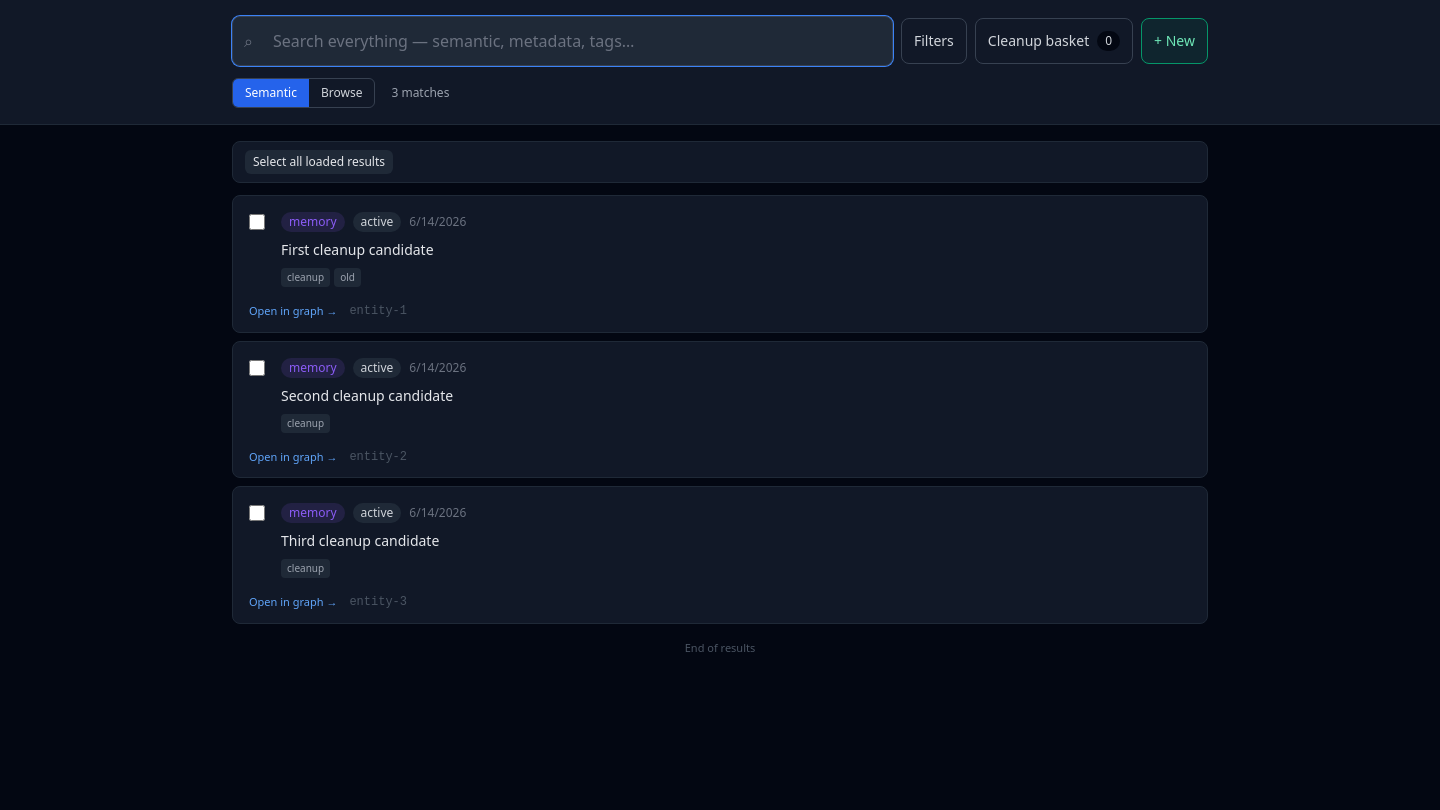
SearchPage result selection › adds selected result snapshots to the cleanup basket and clears the current selection
Expected: the text "First cleanup candidate" is shown, [281,240,434,260]
Step 1. Click the checkbox named "Select First cleanup candidate" → click(257, 222), box [249,214,265,230]
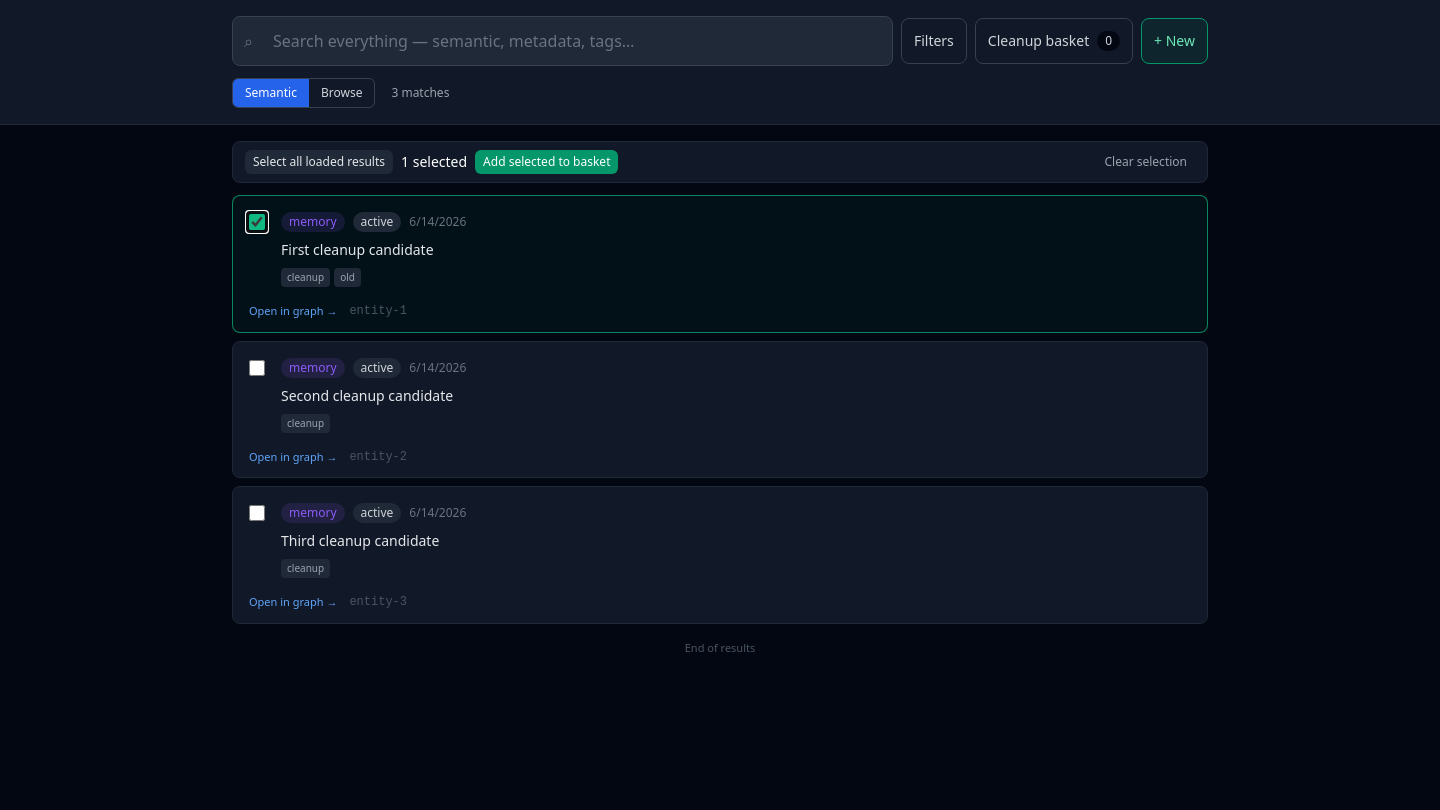
Step 2. Click the checkbox named "Select Second cleanup candidate" → click(257, 368), box [249,360,265,376]
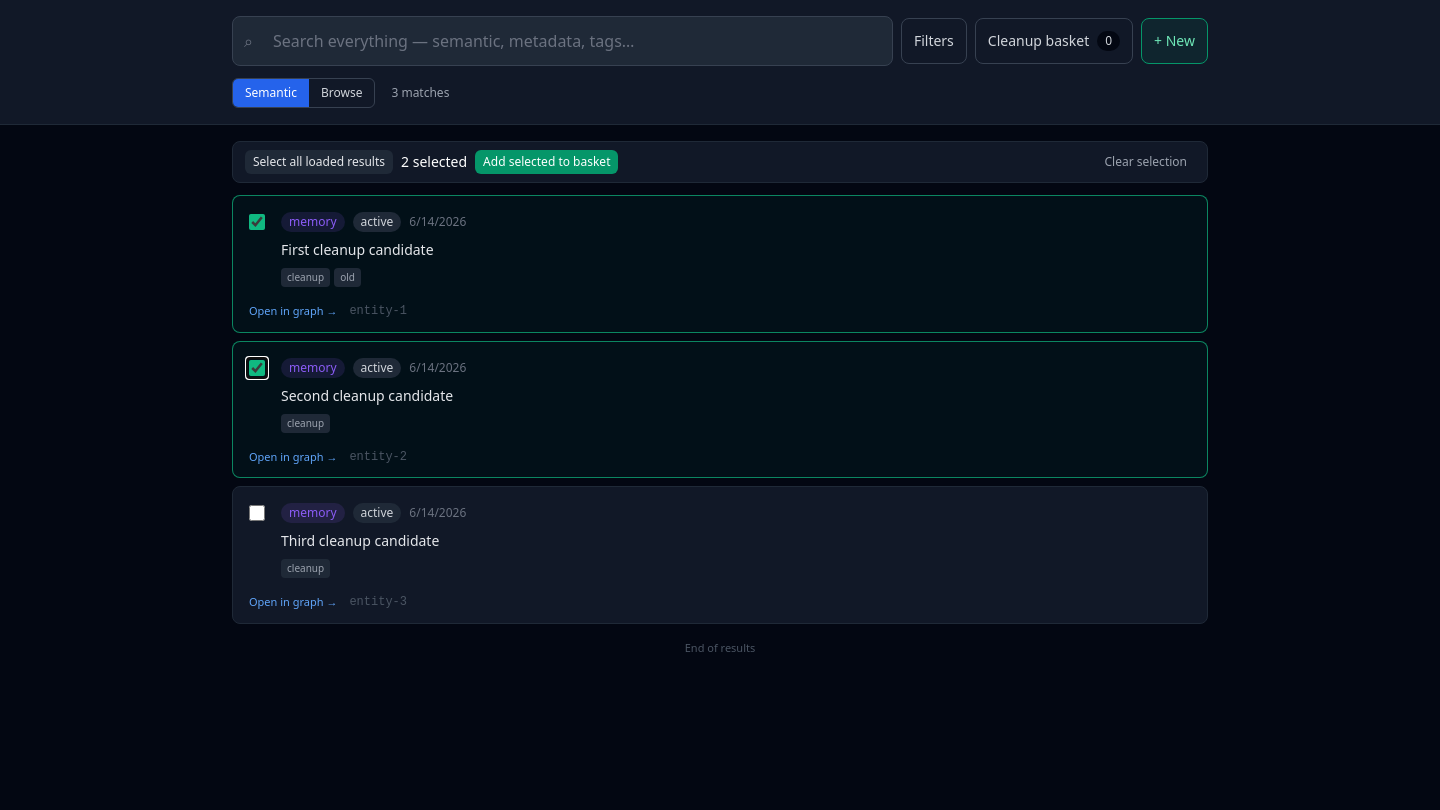
Step 3. Click the button "Add selected to basket" → click(547, 162), box [475,150,618,174]
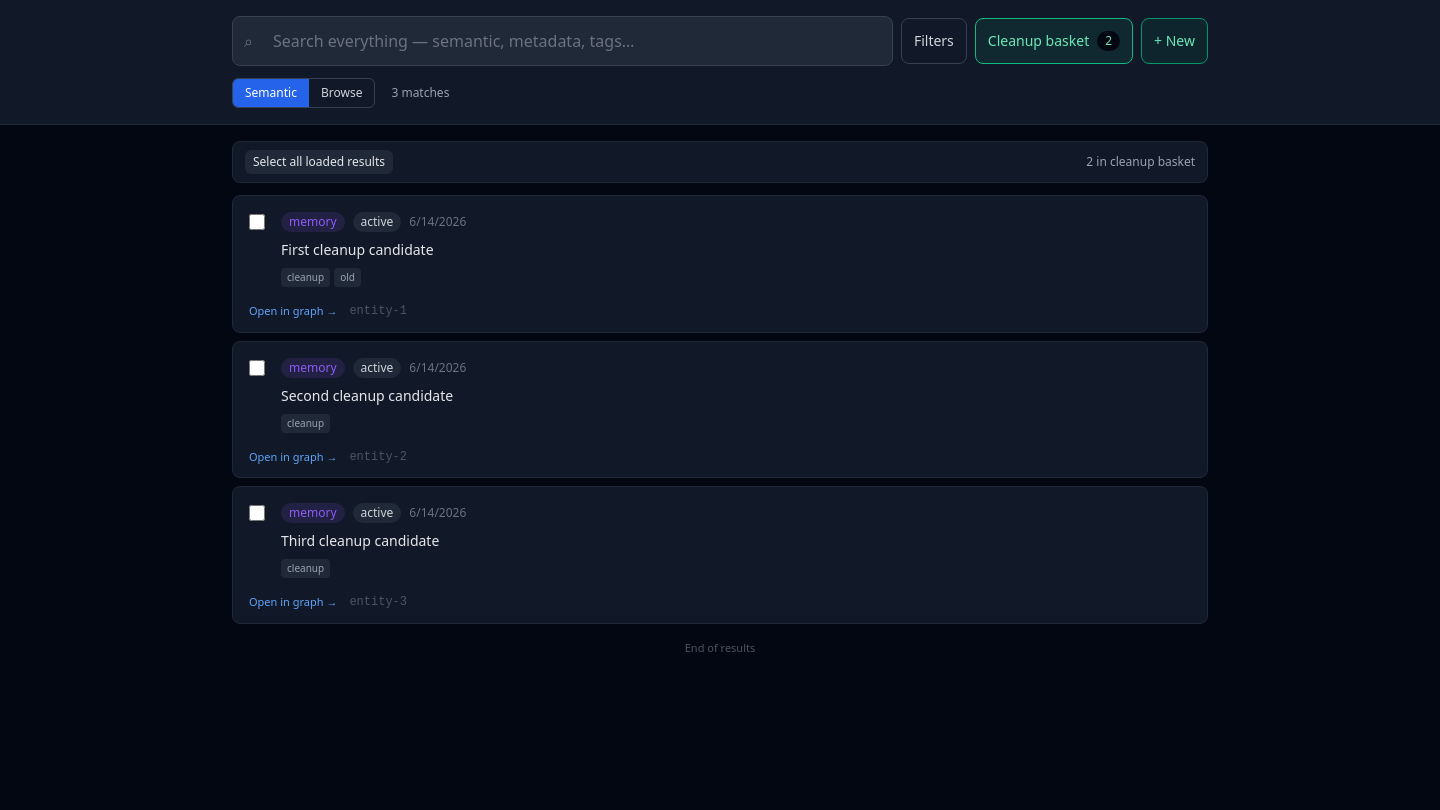
Expected: the checkbox named "Select First cleanup candidate" is not checked, [249,214,265,230]
Expected: the checkbox named "Select Second cleanup candidate" is not checked, [249,360,265,376]
Expected: the text "2 selected" is gone
